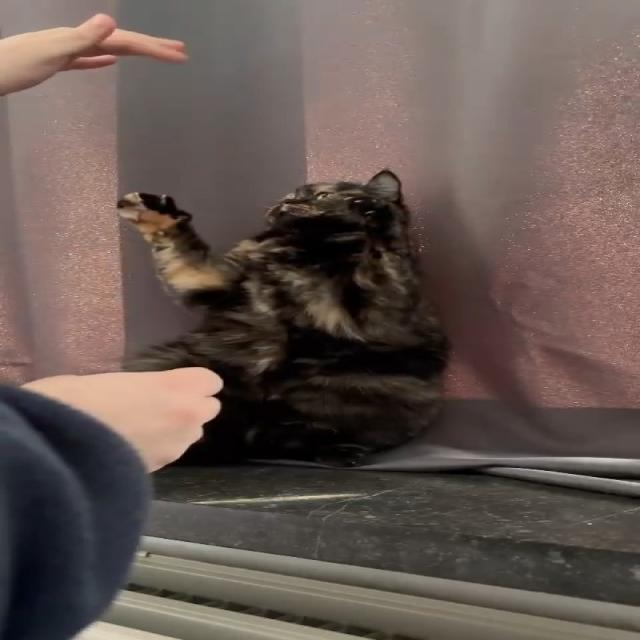authorized: (115, 167, 452, 468)
